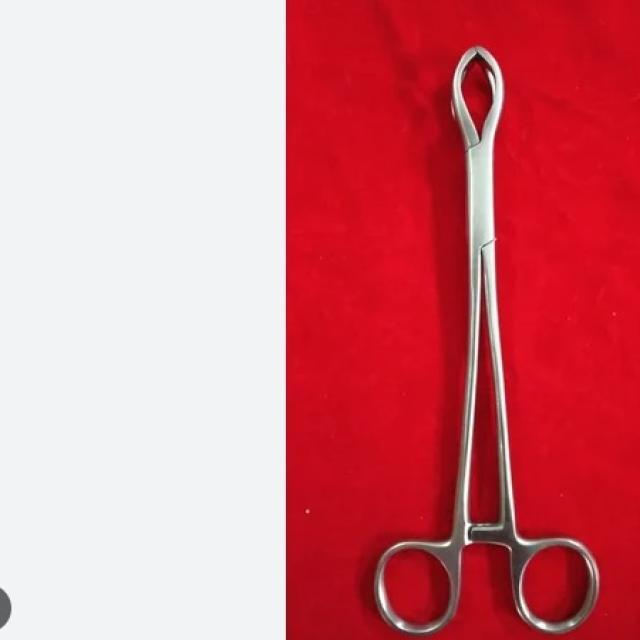Babcock Forceps: (368, 30, 607, 640)
